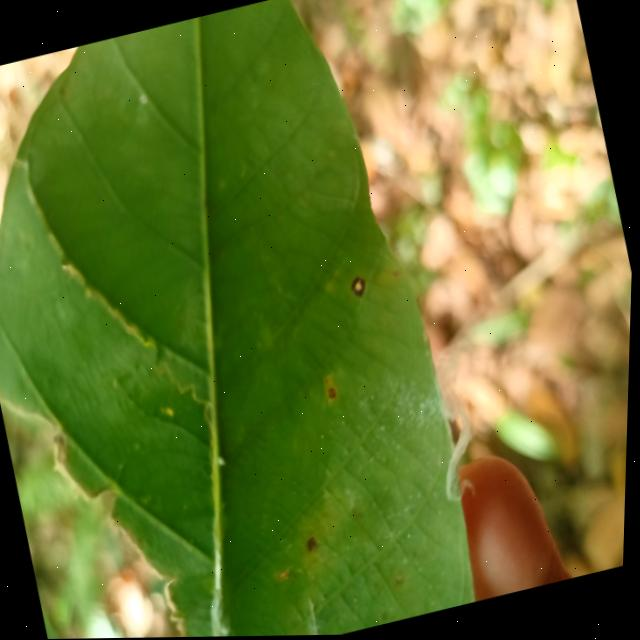Colletotrichum: (349, 276, 367, 299)
